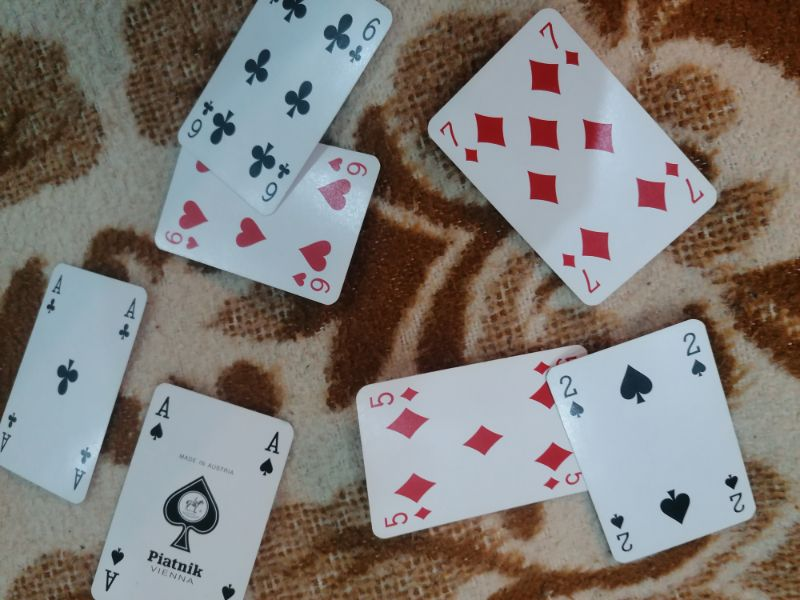2s: (556, 373, 588, 420), (680, 328, 709, 379), (722, 472, 750, 516), (606, 511, 635, 552)
5d: (366, 384, 423, 411), (382, 503, 435, 530)
6c: (346, 15, 385, 64), (257, 159, 295, 205), (185, 96, 217, 140)
6h: (288, 269, 333, 297), (324, 153, 369, 179), (161, 227, 201, 251)
7d: (536, 20, 583, 69), (661, 158, 706, 205), (437, 119, 481, 166), (559, 250, 603, 297)
Ac: (69, 442, 97, 493), (115, 294, 143, 343), (41, 273, 67, 316), (1, 408, 20, 457)
As: (99, 543, 128, 594), (148, 392, 175, 446), (258, 427, 283, 480)
